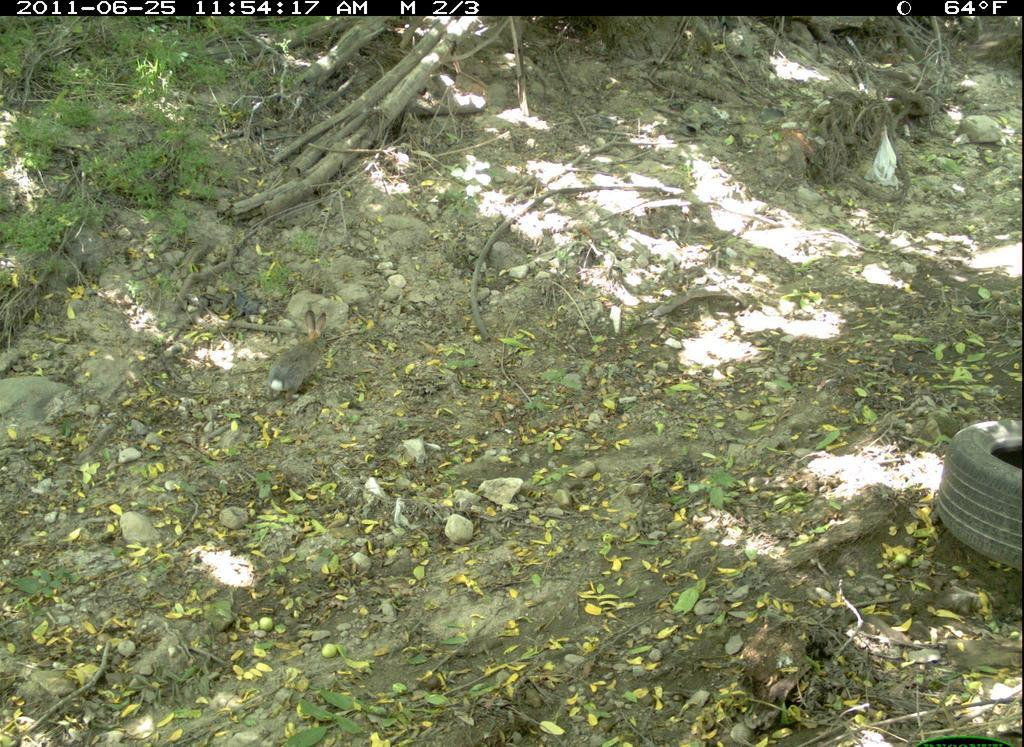rabbit: (263, 306, 335, 401)
